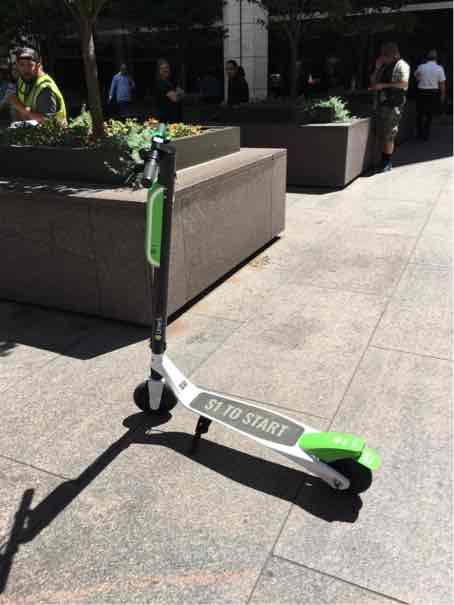scooter: (108, 105, 377, 510)
